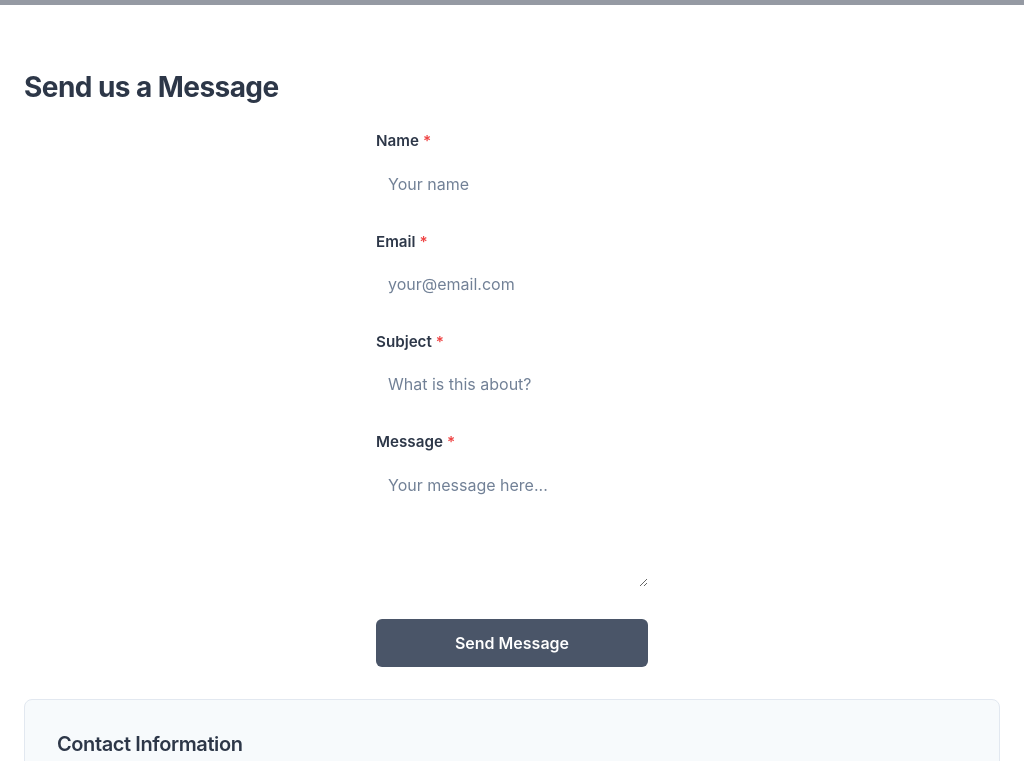
Test: Contact Page › Form Validation - Field Length Requirements › should show error for subject less than 5 characters
(page scrolled)
Type "Test" into the field labelled "Subject *" at (512, 384), box x1=376 y1=362 x2=648 y2=406
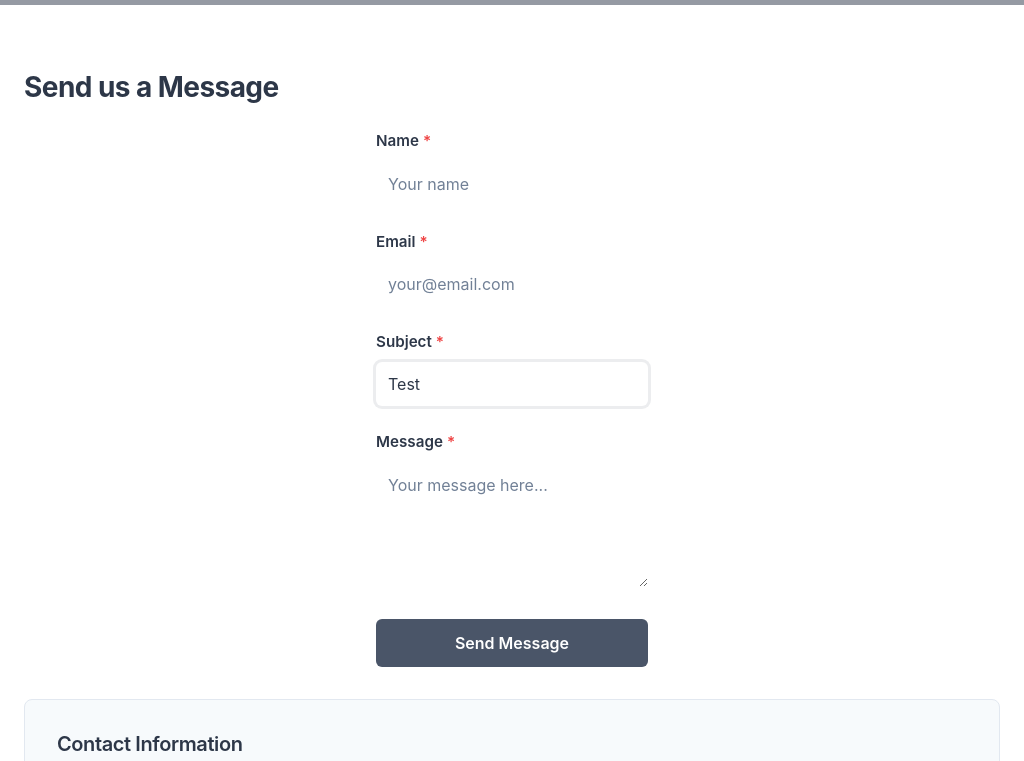
Press Tab
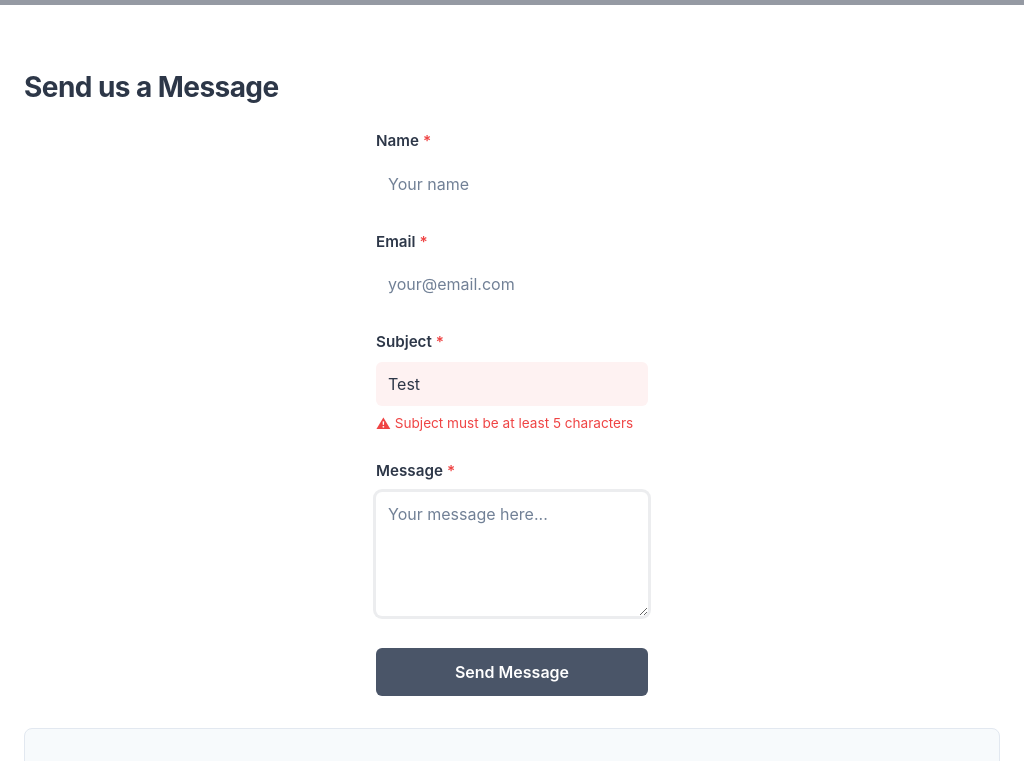
expect the text "Subject must be at least 5 characters" is shown: met, box x1=376 y1=412 x2=648 y2=435
